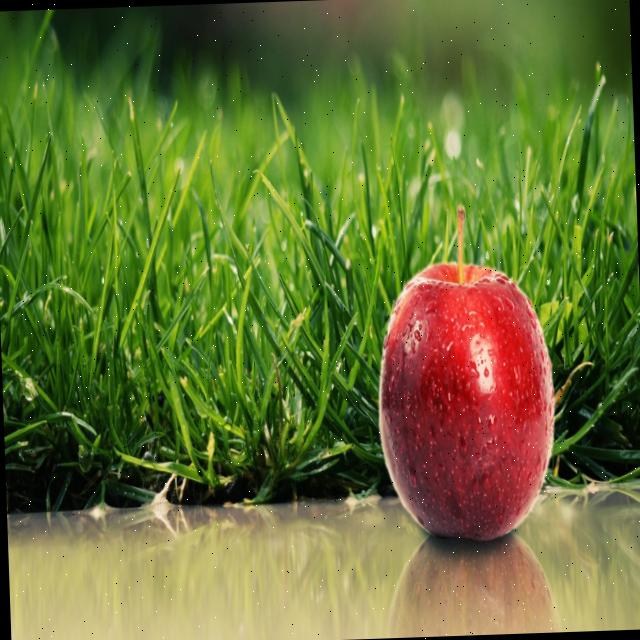Apel: (371, 202, 560, 544), (384, 530, 561, 636)
